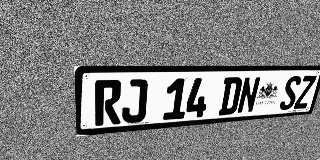1: (163, 78, 189, 120)
4: (185, 78, 211, 118)
D: (218, 77, 243, 116)
J: (121, 79, 148, 124)
N: (236, 77, 261, 114)
R: (95, 80, 122, 126)
S: (278, 76, 302, 110)
Z: (293, 75, 317, 109)
